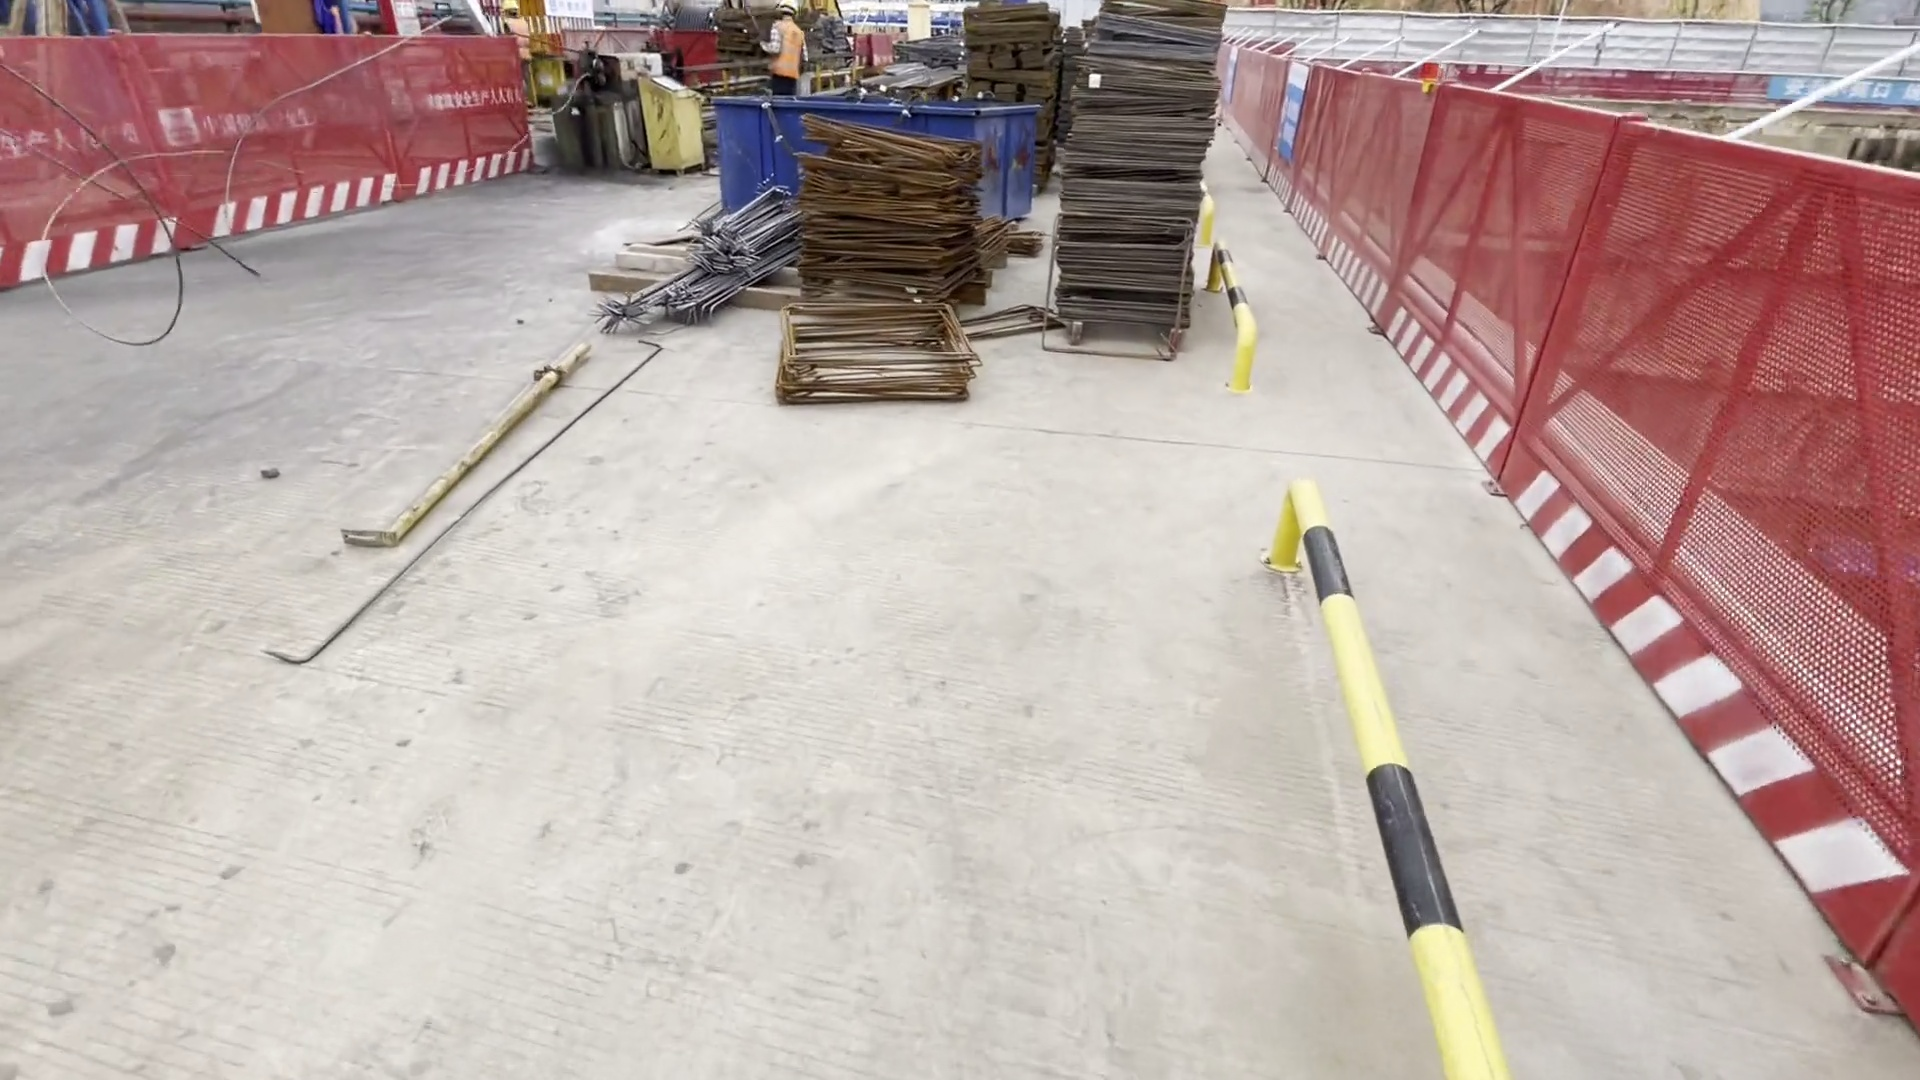fence: (1220, 31, 1920, 1004), (1, 19, 554, 274)
hopper: (711, 84, 1044, 233)
person: (755, 1, 808, 101), (489, 1, 532, 92)
vest: (772, 21, 802, 76)
